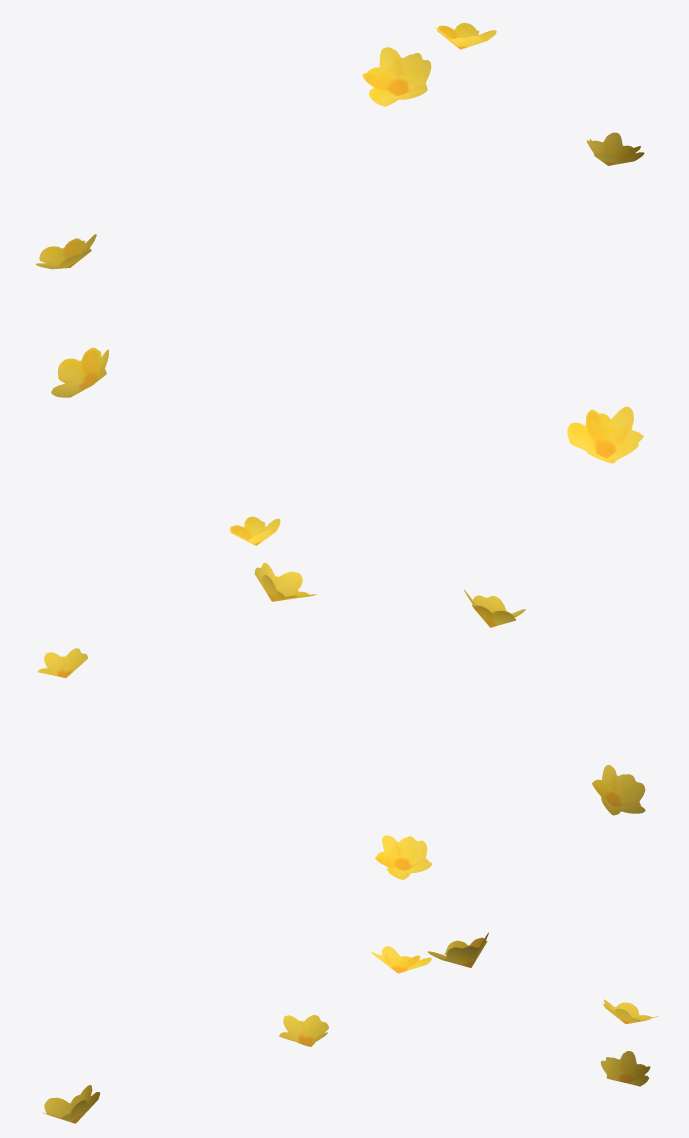
Rendered from hua_03.fbx.
3 renders of one model, top to bottom at view 1: azimuth 30°, elevation 25°; view 2: azimuth 150°, elevation 25°; view 3: azimuth 270°, elevation 25°, orthographic. The views are drawn at different scales.
Parts seen in each view (by area): view 1: hua_03; view 2: hua_03; view 3: hua_03.
Part boxes in pixels (x1,y1,x2,y2): hua_03: (35,23,644,463); hua_03: (37,516,645,879); hua_03: (43,932,658,1123).
Bounding box in the file's own units: 181 × 71.56 × 198.
Materials: 1 (1 with a texture image).
